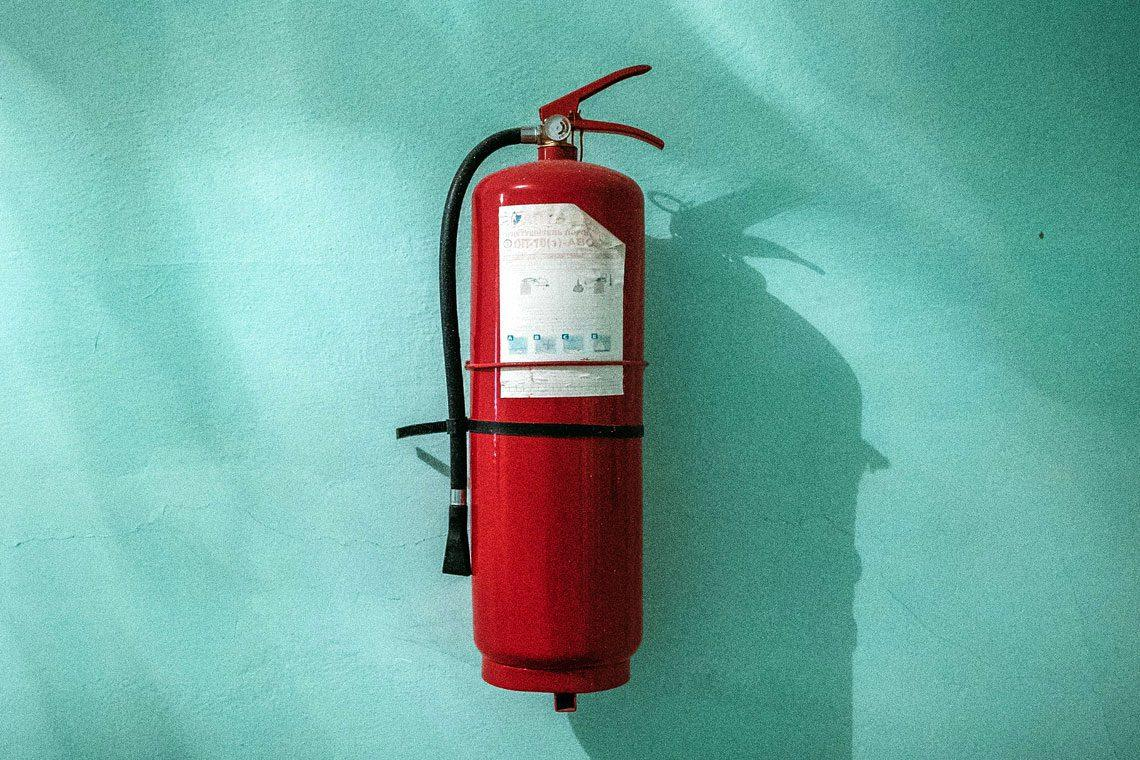wall-mounted: (375, 46, 746, 730)
